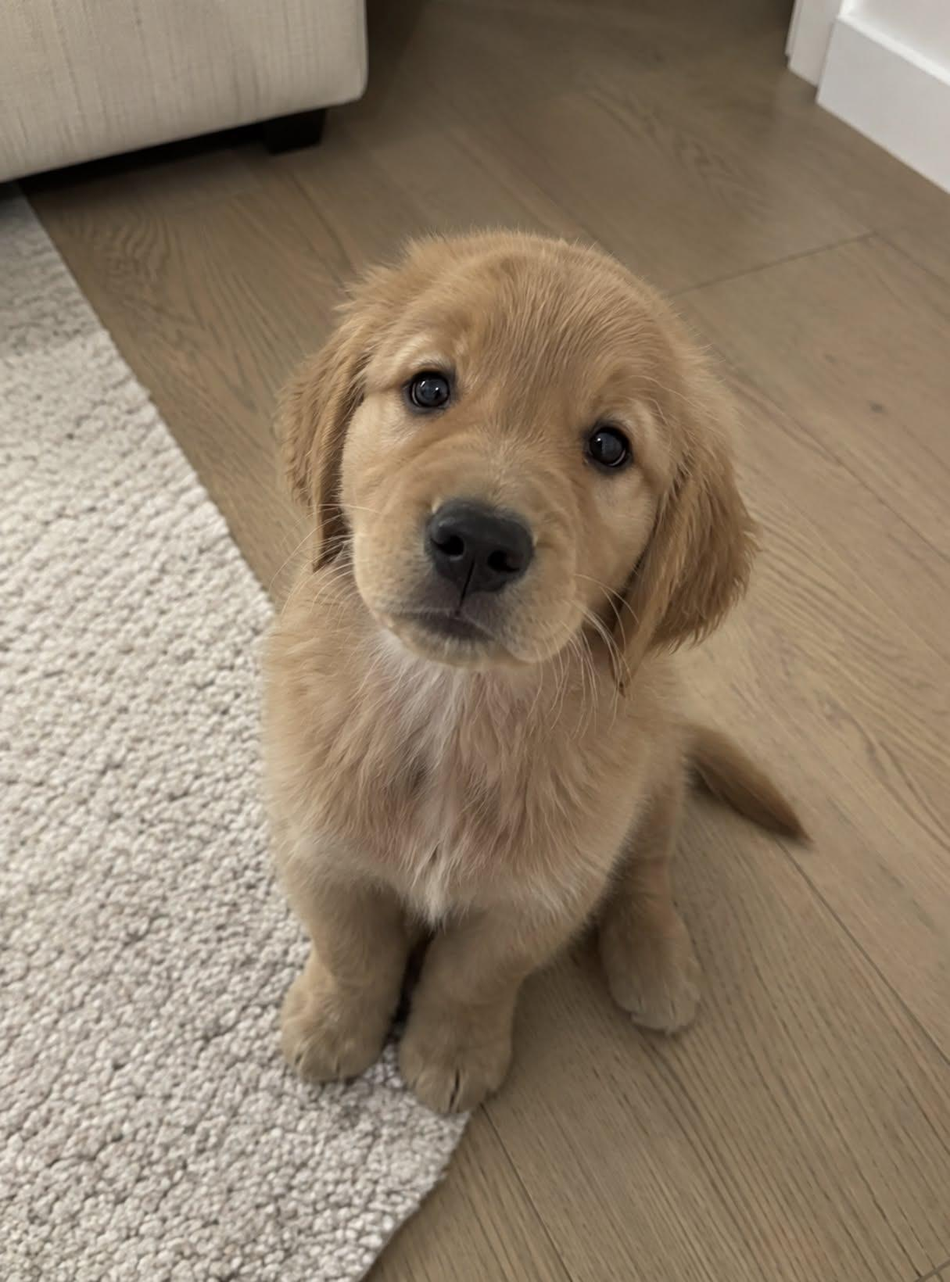puppy-dog: (254, 226, 813, 1119)
